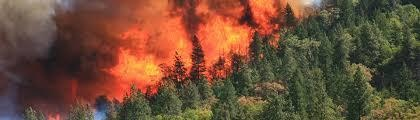fire: (104, 1, 294, 93)
